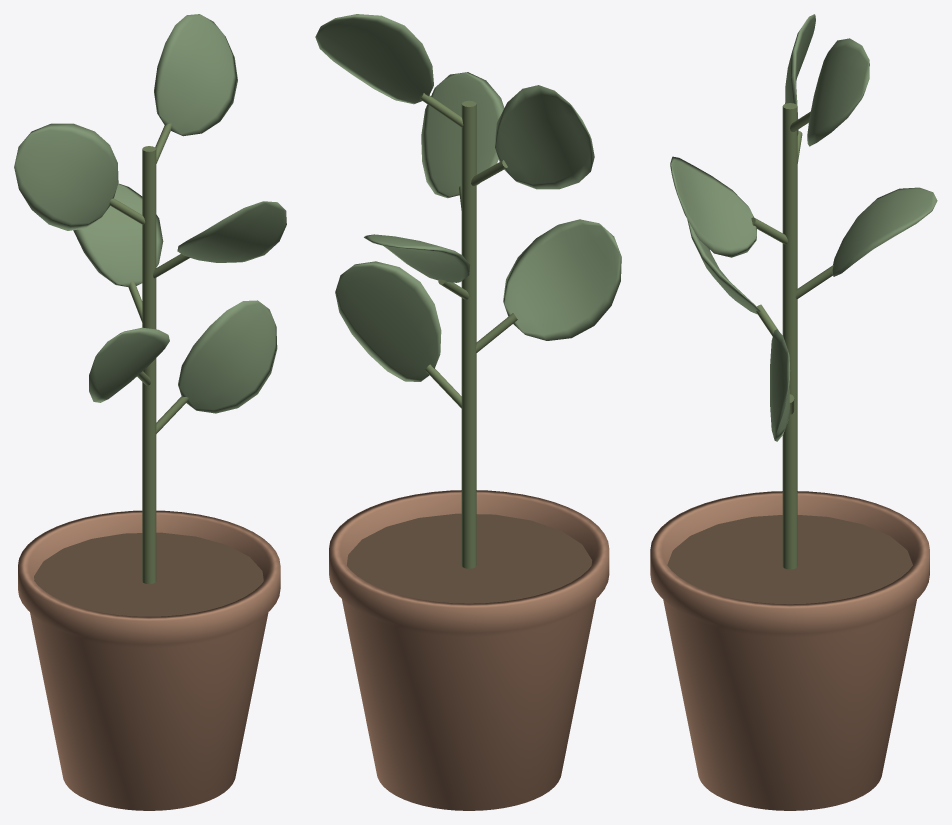
File: plant.glb
The picture shows the model from 3 angles, left to right: view 1: azimuth 30°, elevation 25°; view 2: azimuth 150°, elevation 25°; view 3: azimuth 270°, elevation 25°; orthographic projection. The views are drawn at different scales.
Visible parts, largest first — view 1: planter-hollow-vessel, planter-contained-soil, plant-leaf-4, plant-leaf-0, plant-leaf-5, plant-rooted-stem, plant-leaf-2, plant-leaf-3, plant-leaf-1; view 2: planter-hollow-vessel, planter-contained-soil, plant-leaf-1, plant-leaf-0, plant-leaf-4, plant-rooted-stem, plant-leaf-5, plant-leaf-3, plant-leaf-2; view 3: planter-hollow-vessel, planter-contained-soil, plant-rooted-stem, plant-leaf-3, plant-leaf-5, plant-leaf-2, plant-leaf-0, plant-leaf-4, plant-leaf-1.
Boxes of the visible parts, <box> form: planter-hollow-vessel: <box>18,510,280,810</box>; planter-contained-soil: <box>34,532,263,616</box>; plant-leaf-4: <box>14,123,118,230</box>; plant-leaf-0: <box>178,300,277,413</box>; plant-leaf-5: <box>154,14,237,136</box>; plant-rooted-stem: <box>142,146,156,584</box>; plant-leaf-2: <box>73,183,163,286</box>; plant-leaf-3: <box>177,201,286,262</box>; plant-leaf-1: <box>89,327,169,402</box>; planter-hollow-vessel: <box>329,490,609,810</box>; planter-contained-soil: <box>346,513,591,603</box>; plant-leaf-1: <box>503,219,621,340</box>; plant-leaf-0: <box>335,261,441,381</box>; plant-leaf-4: <box>494,85,594,189</box>; plant-rooted-stem: <box>461,100,476,568</box>; plant-leaf-5: <box>315,14,433,104</box>; plant-leaf-3: <box>421,72,504,198</box>; plant-leaf-2: <box>364,234,470,282</box>; planter-hollow-vessel: <box>650,491,929,810</box>; planter-contained-soil: <box>667,515,912,604</box>; plant-rooted-stem: <box>782,103,797,569</box>; plant-leaf-3: <box>670,156,756,257</box>; plant-leaf-5: <box>807,38,869,146</box>; plant-leaf-2: <box>832,187,937,276</box>; plant-leaf-0: <box>770,329,790,441</box>; plant-leaf-4: <box>785,14,815,135</box>; plant-leaf-1: <box>687,219,760,314</box>.
Size of the model in its own units: 0.3756 by 1.02 by 0.3493.
